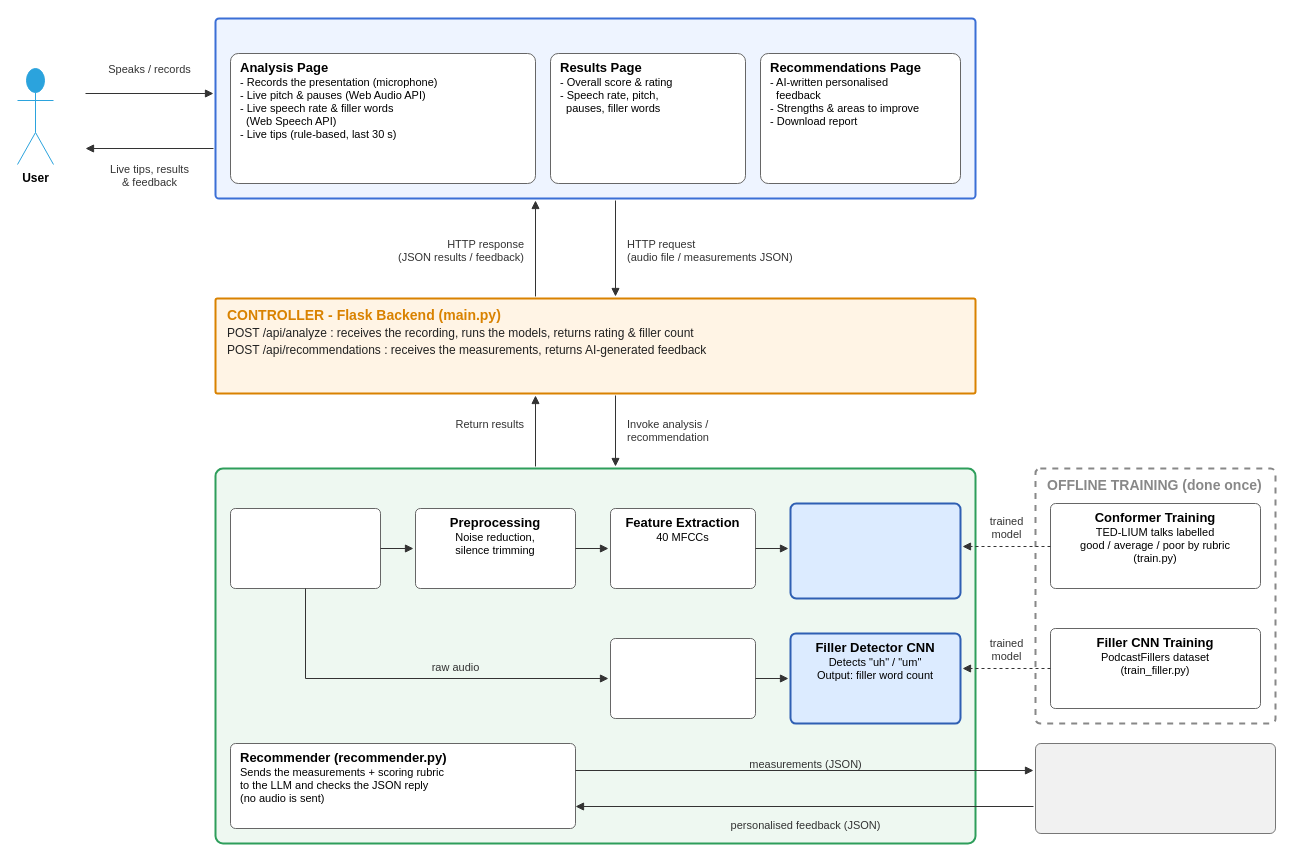
This 1294x861 diagram has some shape labels left out. The shapes that lost their labels are listed below. From the top down, each one's box as (x1, y1, x2, y2) in pixels, then its label:
(214, 17, 976, 199): VIEW - Web Interface (HTML, CSS, JavaScript in Chrome)
(230, 508, 380, 588): Audio Conversion FFmpeg -> 16 kHz mono WAV
(789, 502, 961, 599): Conformer Model Scored in 25-s chunks, averaged Output: Good / Average / Poor
(214, 467, 976, 844): MODEL - Processing & AI Components (Python)
(610, 638, 756, 718): Feature Extraction 40-band mel-spectrogram
(1034, 742, 1276, 834): OpenAI API External cloud service (GPT) Writes the personalised recommendations
